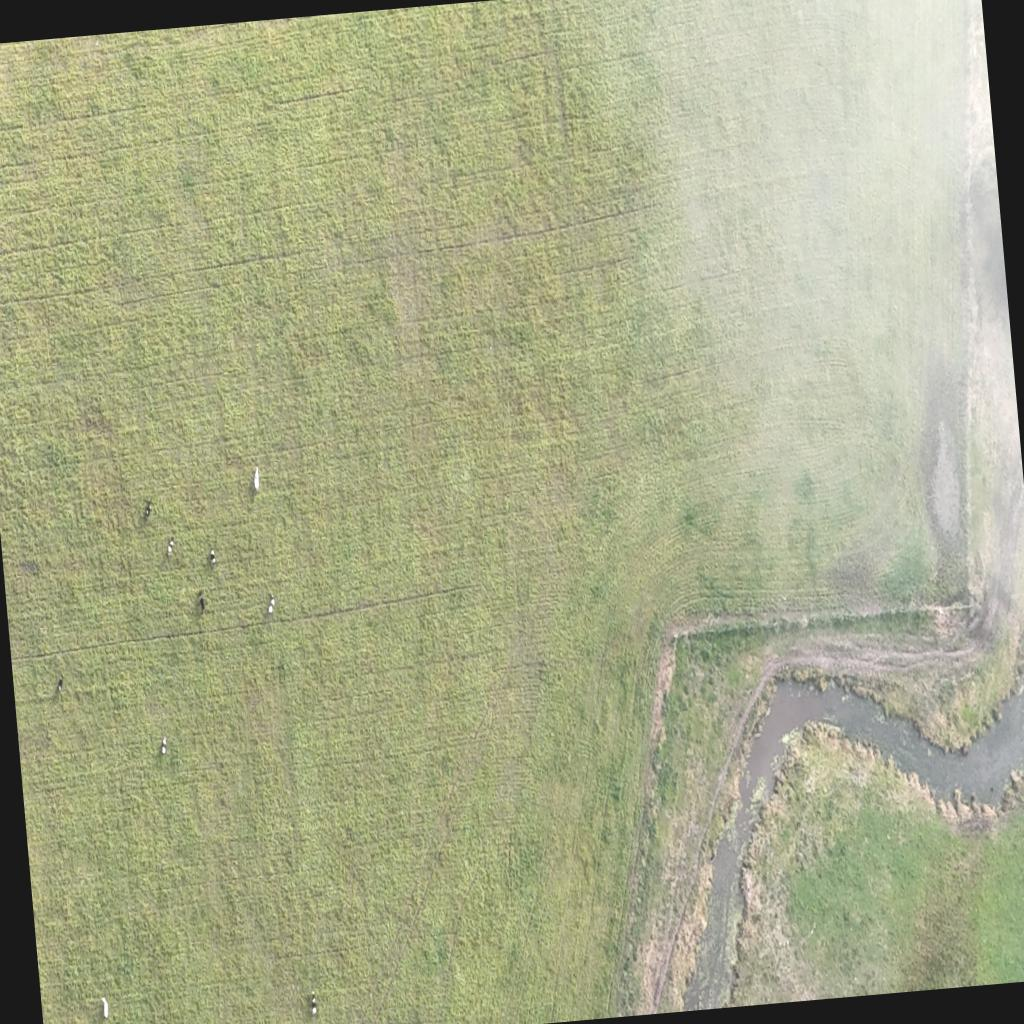cow: (252, 466, 260, 492), (167, 538, 177, 558), (268, 594, 276, 614), (101, 998, 109, 1018), (208, 548, 216, 567), (143, 502, 152, 518), (160, 736, 168, 754), (198, 595, 206, 612), (310, 1000, 318, 1016), (57, 676, 64, 694)
